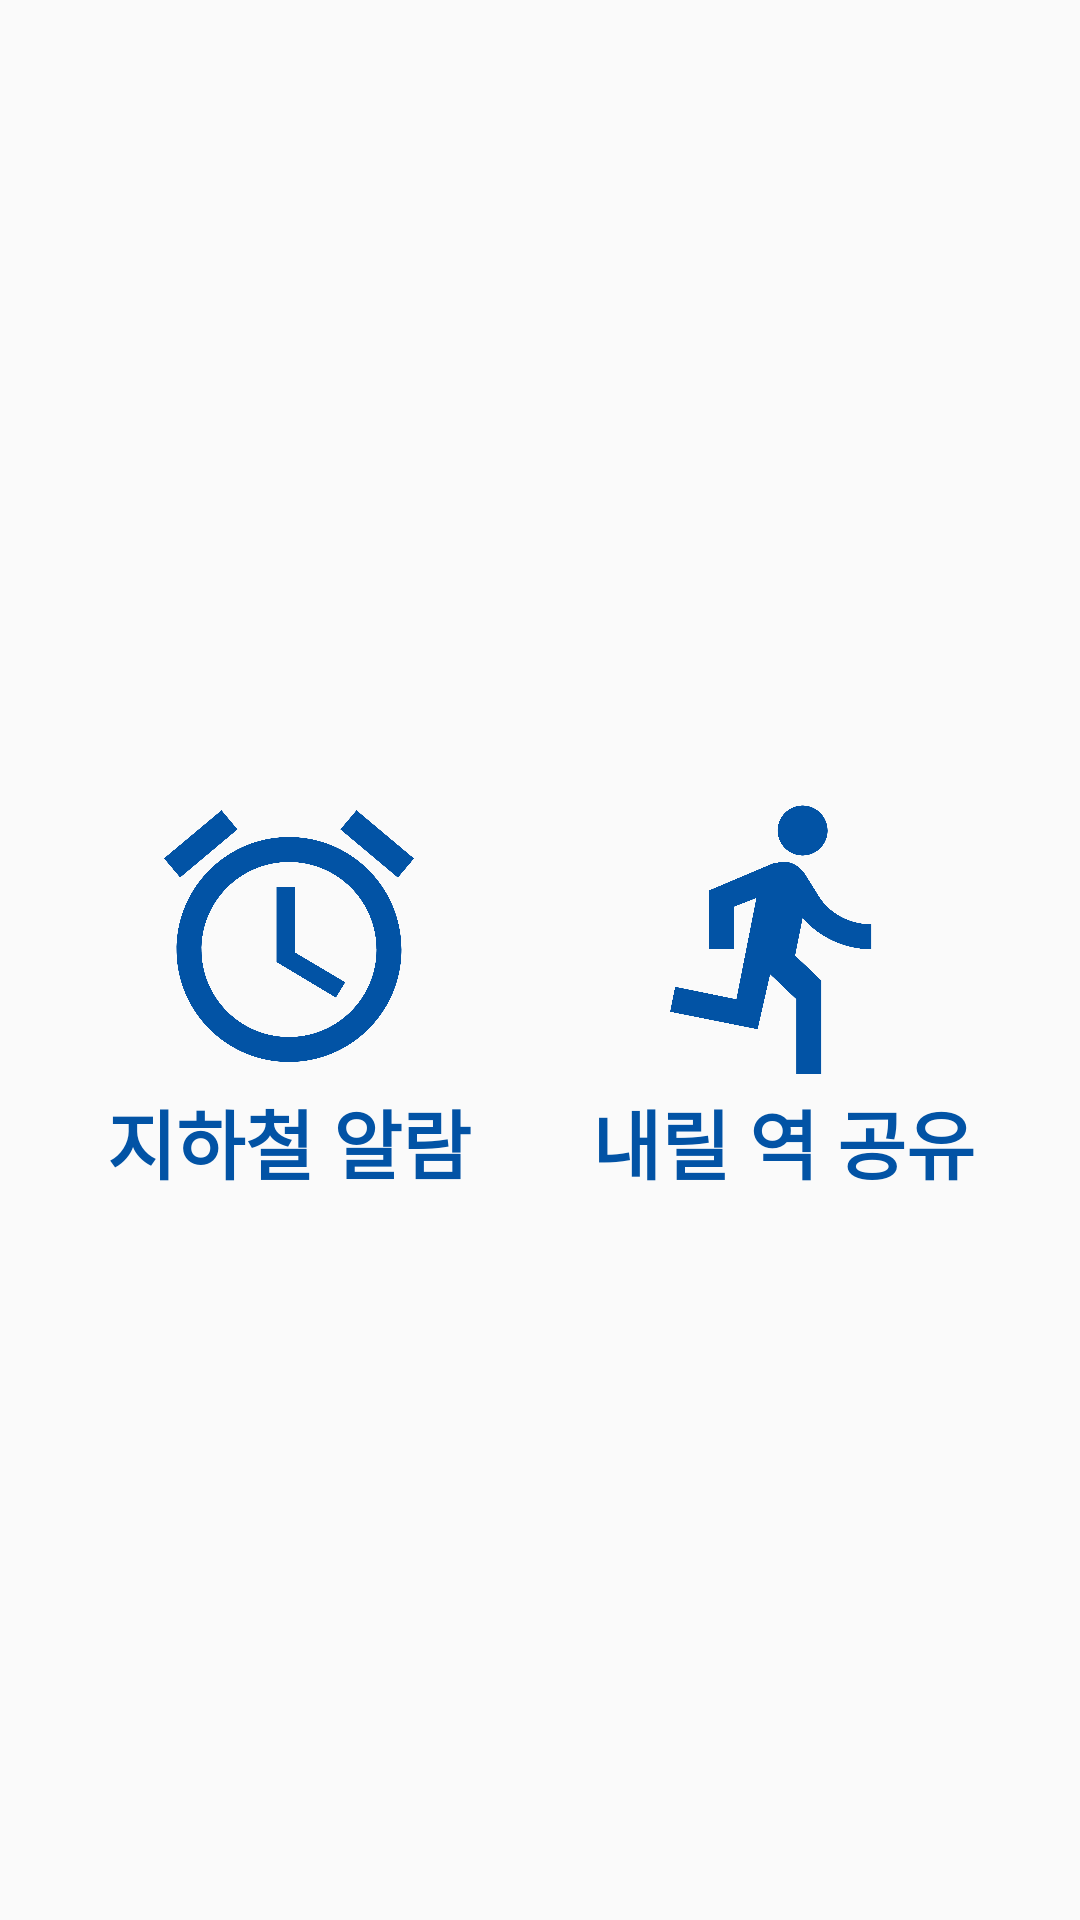

Named icons in this screenshot (1080 × 1920) and their centers, (x=x, y=y):
directions run: (x=770, y=939)
